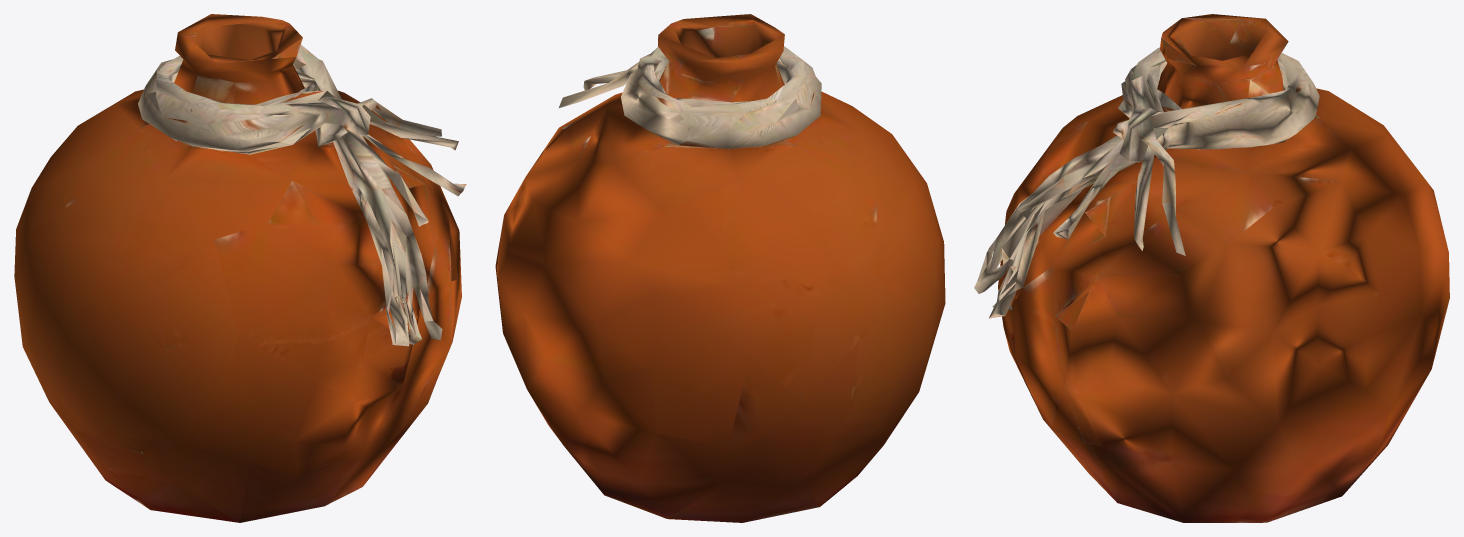
Rendered from la_part_naft_jar.glb.
3 renders of one model, left to right at view 1: azimuth 30°, elevation 25°; view 2: azimuth 150°, elevation 25°; view 3: azimuth 270°, elevation 25°, orthographic.
Visible parts, largest first — view 1: la_part_naft_jar; view 2: la_part_naft_jar; view 3: la_part_naft_jar.
Part boxes in pixels (x1=…): la_part_naft_jar: x1=14, y1=14, x2=466, y2=522; la_part_naft_jar: x1=495, y1=14, x2=945, y2=522; la_part_naft_jar: x1=974, y1=14, x2=1449, y2=522.
Size of the model in its own units: 0.4271 by 0.4499 by 0.4489.
1 material, 1 textured.
